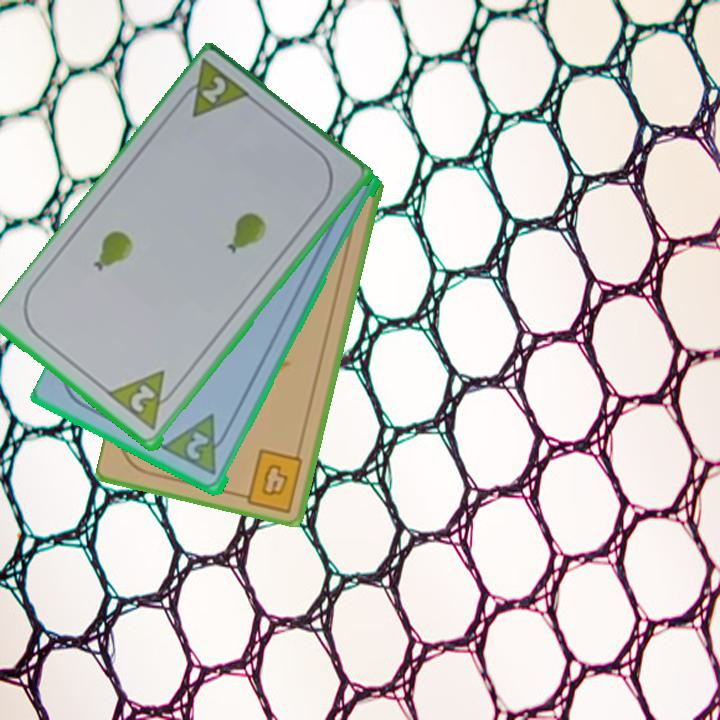2p: (172, 57, 256, 122), (126, 381, 159, 416), (182, 428, 212, 464)
4b: (234, 445, 306, 514)
